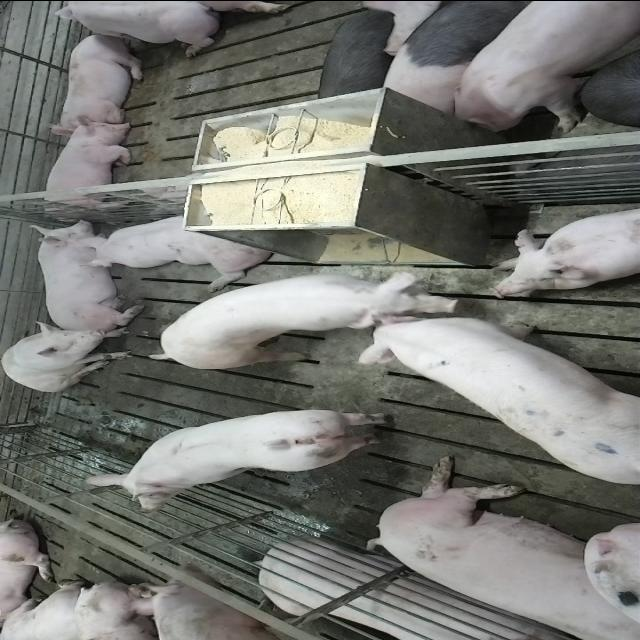Lateral_lying: (368, 454, 640, 636), (256, 537, 577, 640)
Sitting: (3, 322, 136, 391)
Standing: (360, 308, 640, 487), (84, 408, 400, 514), (147, 267, 451, 371), (444, 2, 640, 135), (374, 2, 554, 118), (126, 571, 360, 640), (314, 9, 398, 105)
Sternal_lying: (488, 203, 640, 294), (83, 210, 274, 278), (28, 219, 134, 327), (42, 3, 224, 57), (38, 117, 138, 215), (52, 31, 149, 130)
